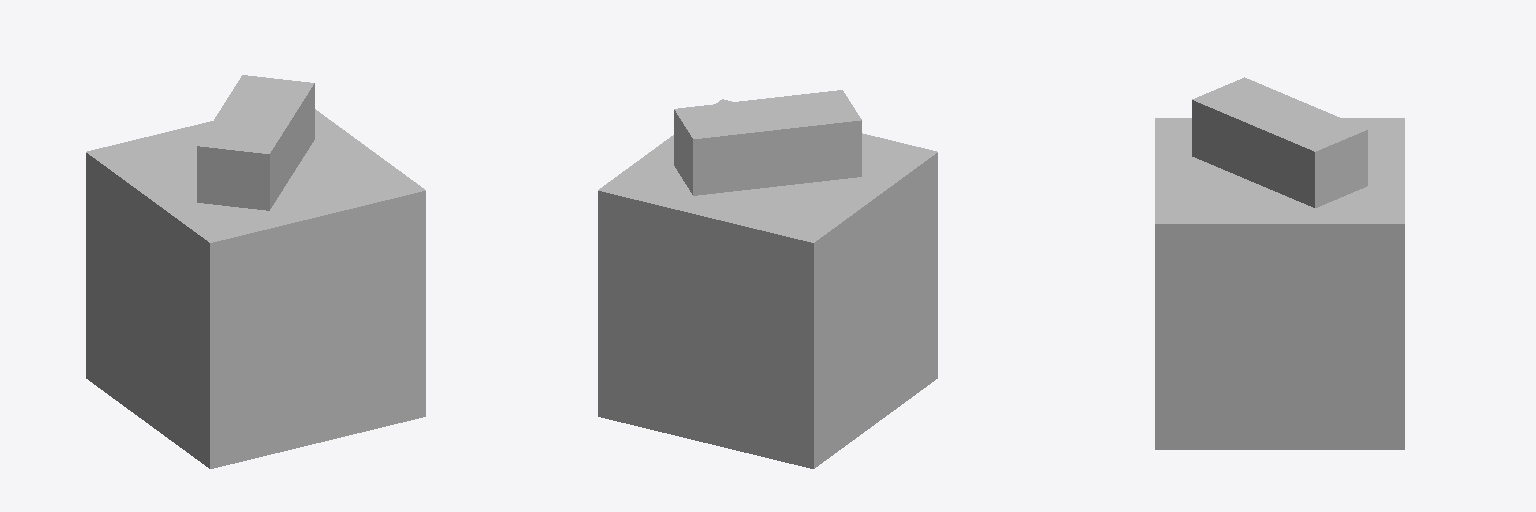
File: Line_cube_cap_rotated45_preprocessed.obj
The picture shows the model from 3 angles: view 1: azimuth 30°, elevation 25°; view 2: azimuth 150°, elevation 25°; view 3: azimuth 270°, elevation 25°; orthographic projection.
Bounding box in the file's own units: 0.08 × 0.1 × 0.08.